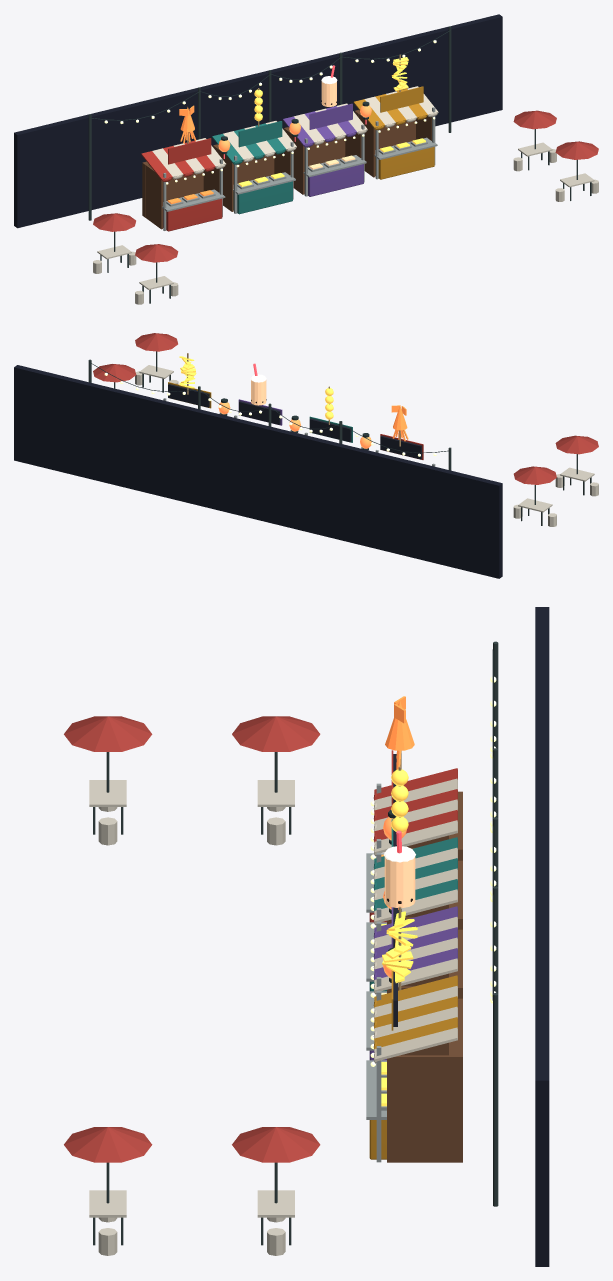
The model's file is market-dressing.glb.
3 views of the same model, one above another, from view 1: azimuth 30°, elevation 25°; view 2: azimuth 150°, elevation 25°; view 3: azimuth 270°, elevation 25° (orthographic). The views are drawn at different scales.
Visible parts, largest first — view 1: Market | backdrop, venue-market | Market | booth plywood, venue-market | Market | counter steel, venue-market | Market | awning stripe, venue-market | Market | squid stall canvas, venue-market | Market | potato stall canvas, venue-market | Market | fish ball stall canvas, venue-market | Market | tea stall canvas, venue-market | Market | umbrella, venue-market | Market | folding table, venue-market | Seawall | graphite metal, venue-market | Market | glazed squid (+5 smaller); view 2: Market | backdrop, venue-market | Market | umbrella, venue-market | Market | sign board, venue-market | Market | folding table, venue-market | Seawall | graphite metal, venue-market | Shared | dark details, venue-market | Market | glazed squid, venue-market | Market | milk tea, venue-market | Market | lantern glow, venue-market | Market | fried potato; view 3: venue-market | Market | booth plywood, venue-market | Market | umbrella, Market | backdrop, venue-market | Market | awning stripe, venue-market | Market | folding table, venue-market | Seawall | graphite metal, venue-market | Market | potato stall canvas, venue-market | Market | counter steel, venue-market | Market | squid stall canvas, venue-market | Market | tea stall canvas, venue-market | Market | fish ball stall canvas, venue-market | Market | fried potato (+4 smaller).
Boxes of the visible parts, x1,y1,x2,y2 form: Market | backdrop: [14, 14, 502, 228]; venue-market | Market | booth plywood: [142, 110, 431, 229]; venue-market | Market | counter steel: [162, 107, 437, 230]; venue-market | Market | awning stripe: [152, 86, 438, 179]; venue-market | Market | squid stall canvas: [141, 138, 222, 231]; venue-market | Market | potato stall canvas: [353, 86, 434, 179]; venue-market | Market | fish ball stall canvas: [212, 121, 292, 214]; venue-market | Market | tea stall canvas: [283, 103, 363, 196]; venue-market | Market | umbrella: [93, 110, 598, 262]; venue-market | Market | folding table: [93, 142, 598, 304]; venue-market | Seawall | graphite metal: [88, 26, 591, 303]; venue-market | Market | glazed squid: [167, 105, 213, 204]; Market | backdrop: [14, 365, 502, 578]; venue-market | Market | umbrella: [93, 333, 598, 484]; venue-market | Market | sign board: [168, 384, 421, 459]; venue-market | Market | folding table: [135, 365, 598, 526]; venue-market | Seawall | graphite metal: [88, 351, 591, 525]; venue-market | Shared | dark details: [91, 363, 448, 453]; venue-market | Market | glazed squid: [391, 405, 408, 441]; venue-market | Market | milk tea: [251, 380, 266, 405]; venue-market | Market | lantern glow: [218, 402, 371, 448]; venue-market | Market | fried potato: [179, 356, 196, 388]; venue-market | Market | booth plywood: [387, 791, 462, 1162]; venue-market | Market | umbrella: [64, 716, 320, 1162]; Market | backdrop: [535, 607, 549, 1266]; venue-market | Market | awning stripe: [373, 778, 457, 1063]; venue-market | Market | folding table: [89, 780, 294, 1255]; venue-market | Seawall | graphite metal: [93, 641, 498, 1245]; venue-market | Market | potato stall canvas: [369, 970, 457, 1159]; venue-market | Market | counter steel: [366, 783, 386, 1162]; venue-market | Market | squid stall canvas: [369, 750, 457, 922]; venue-market | Market | tea stall canvas: [369, 906, 457, 1060]; venue-market | Market | fish ball stall canvas: [369, 819, 457, 991]; venue-market | Market | fried potato: [381, 911, 417, 1106].
Size of the model in its own units: 24 by 5.61 by 10.4.
